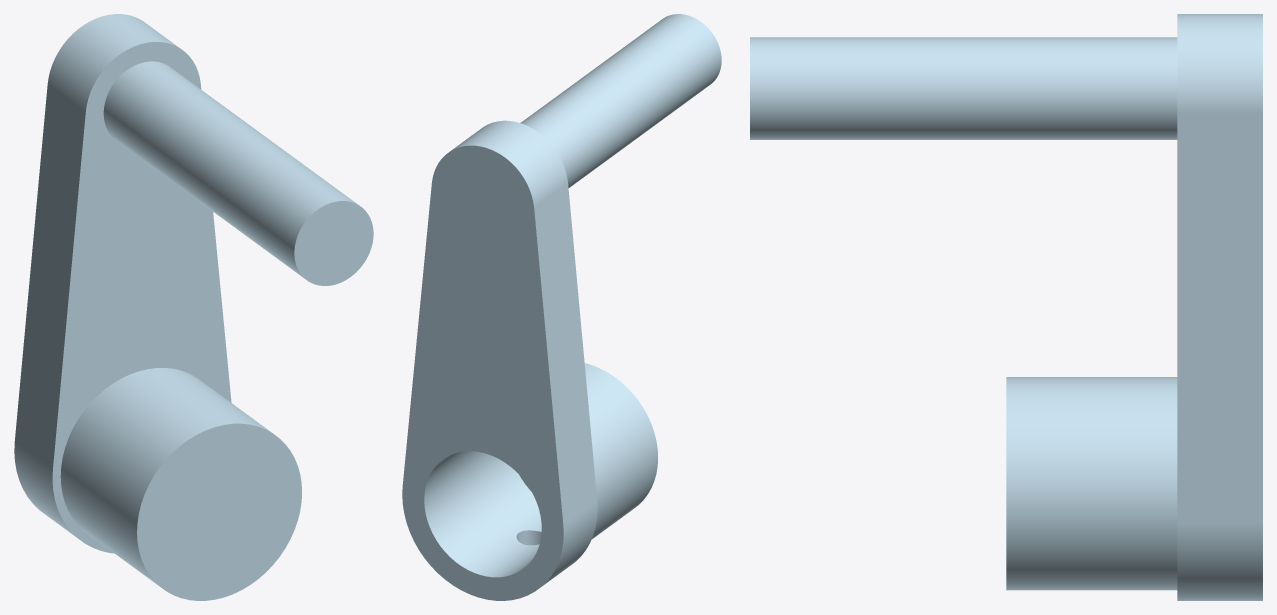
The model's file is CrankHandle.gltf.
The picture shows the model from 3 angles, left to right: view 1: azimuth 30°, elevation 25°; view 2: azimuth 150°, elevation 25°; view 3: azimuth 270°, elevation 25°; orthographic projection. The views are drawn at different scales.
Visible parts, largest first — view 1: Part 1; view 2: Part 1; view 3: Part 1.
Part boxes in pixels (x1,y1,x2,y2): Part 1: (14,14,373,600); Part 1: (402,14,721,600); Part 1: (750,14,1262,600).
Bounding box in the file's own units: 0.0275 × 0.0735 × 0.06.
